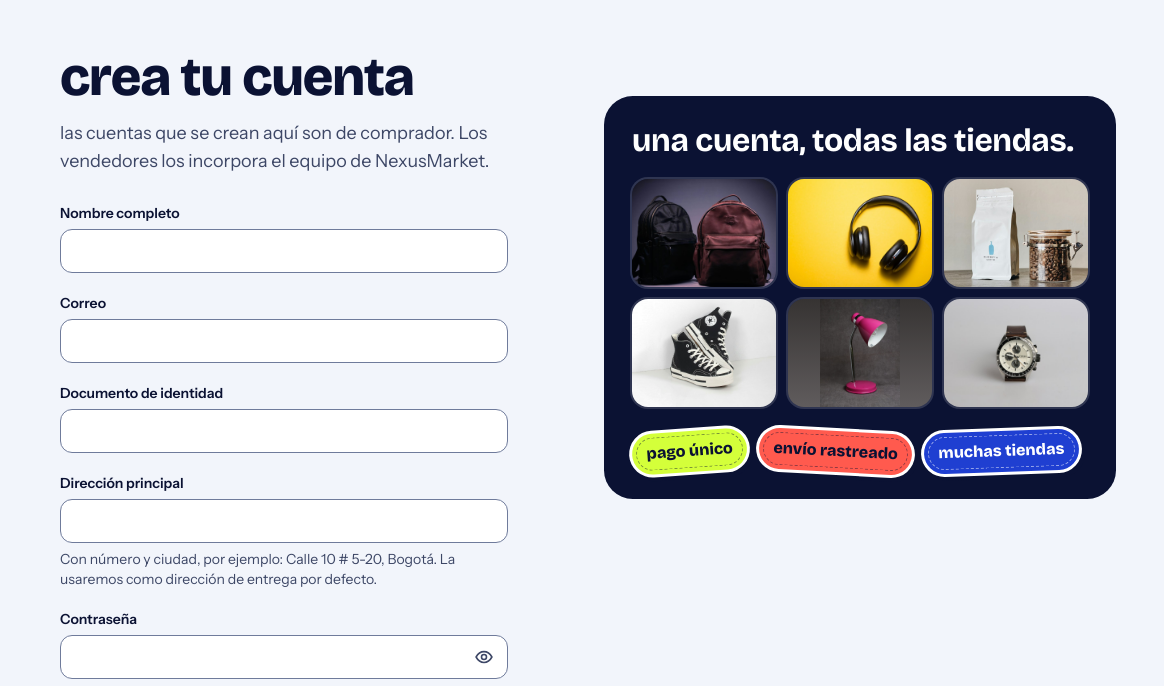
Test: register page › refuses an address without number and city, explaining it with the example
Expected: the text "Con número y ciudad, por ejemplo: Calle 10 # 5-20, Bogotá" is shown, [60,550,455,588]
Type "sabaneta" into the field labelled "Dirección principal" at point(284, 521), box [60,499,508,543]
(page scrolled)
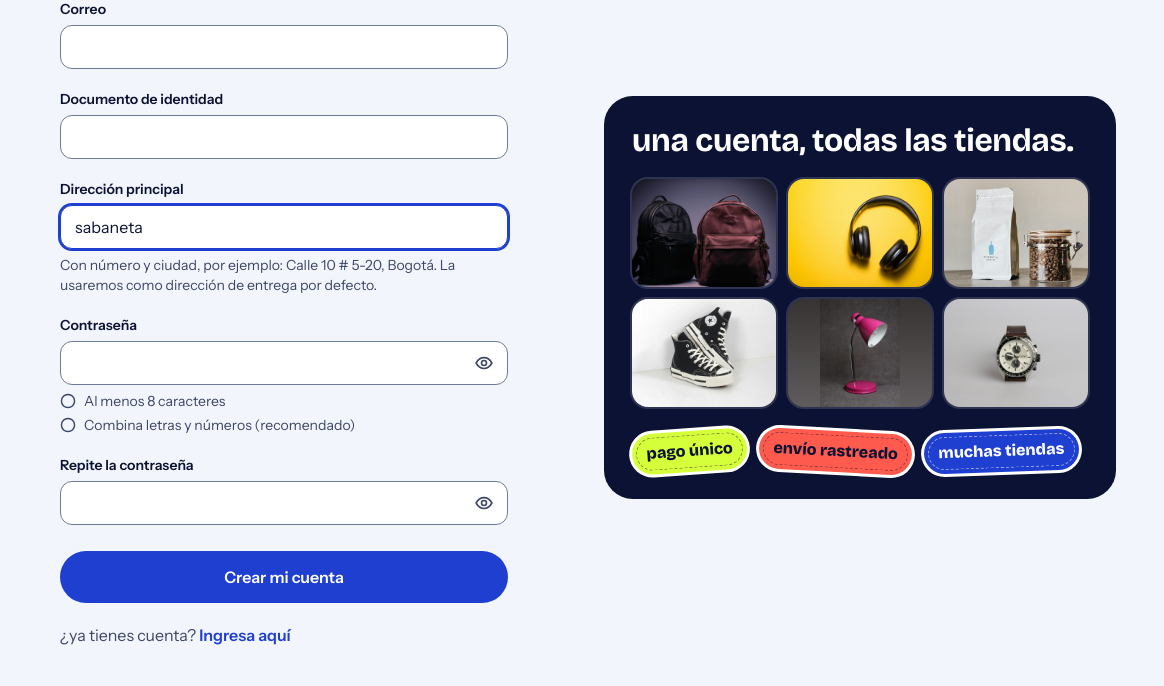
Click the button "Crear mi cuenta" at point(284, 577), box [60,551,508,603]
(page scrolled)
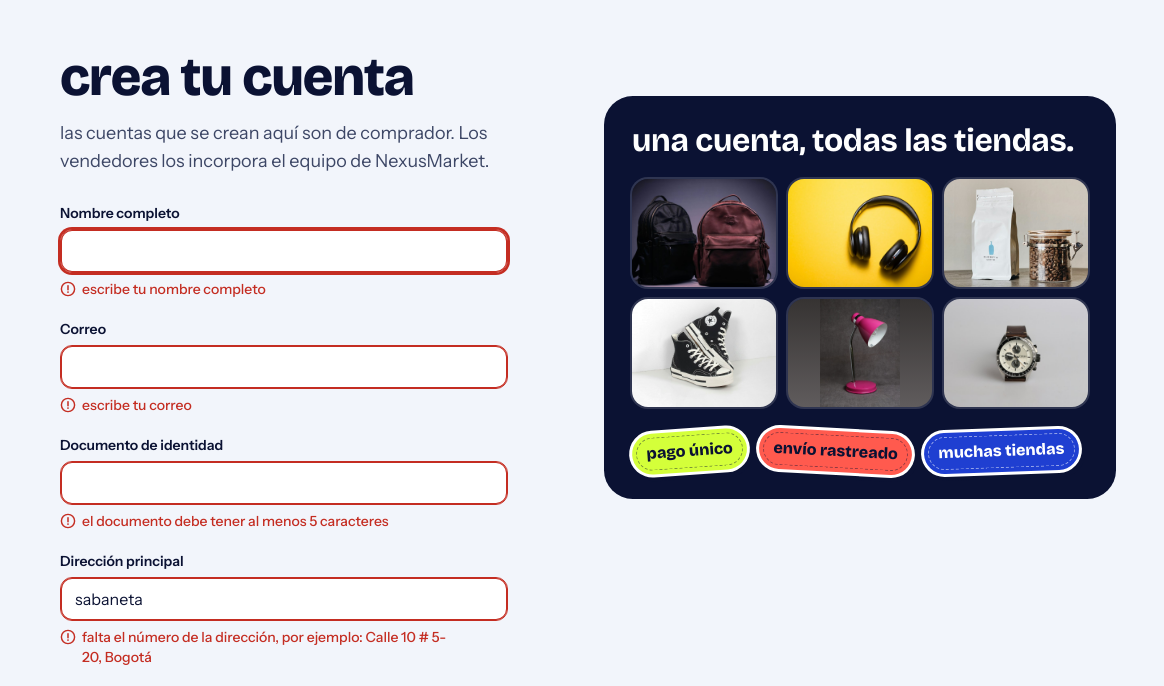
Result: the text "falta el número de la dirección" is shown at [82,628,446,666]
